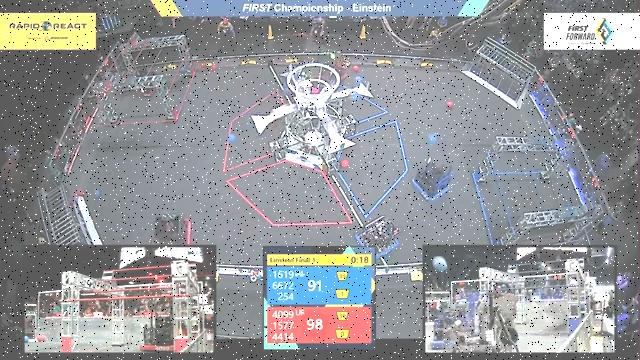Robot: (351, 211, 402, 259), (407, 157, 455, 203), (145, 207, 192, 247), (127, 59, 159, 97)
